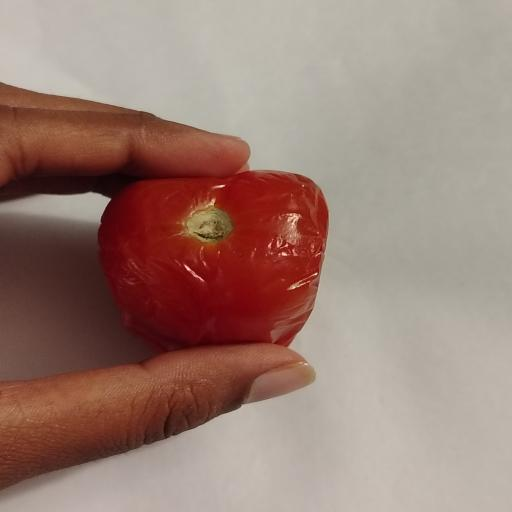spoiled: (98, 171, 328, 351)
